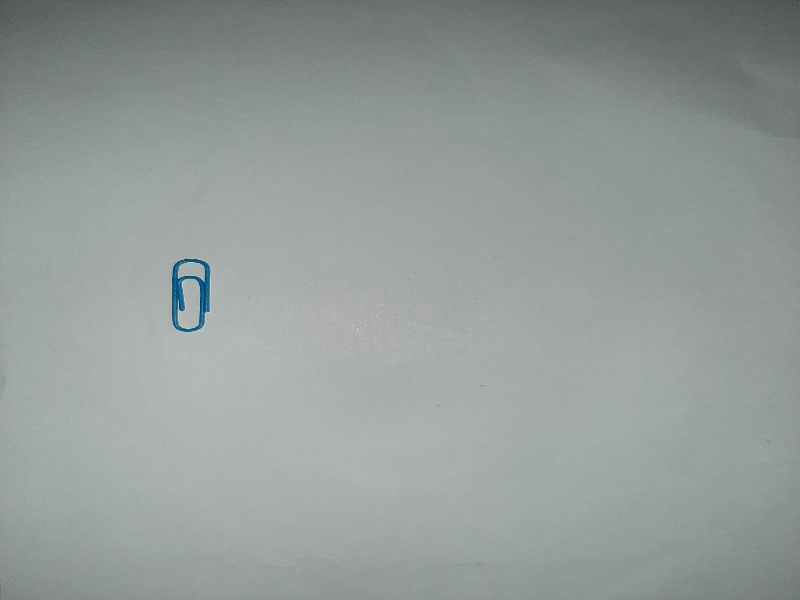Small Jumpclip: (165, 251, 219, 344)
